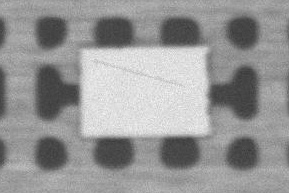DIE_CRACK: (142, 41, 276, 57)
